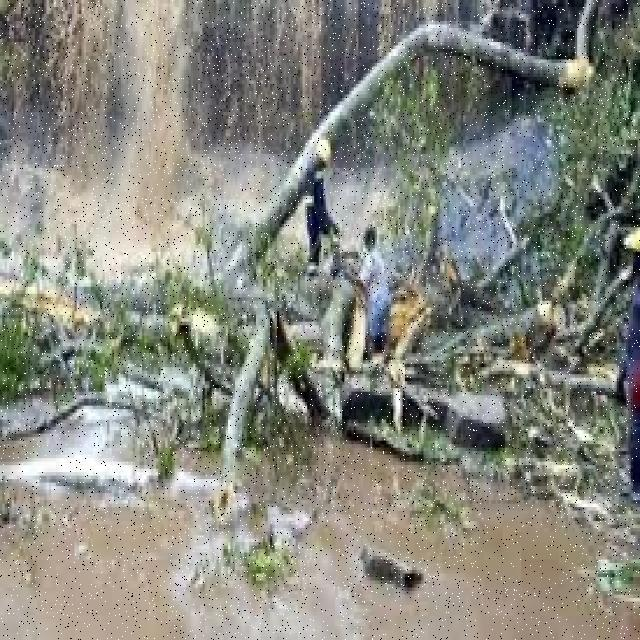fallen_object: (11, 140, 640, 482)
